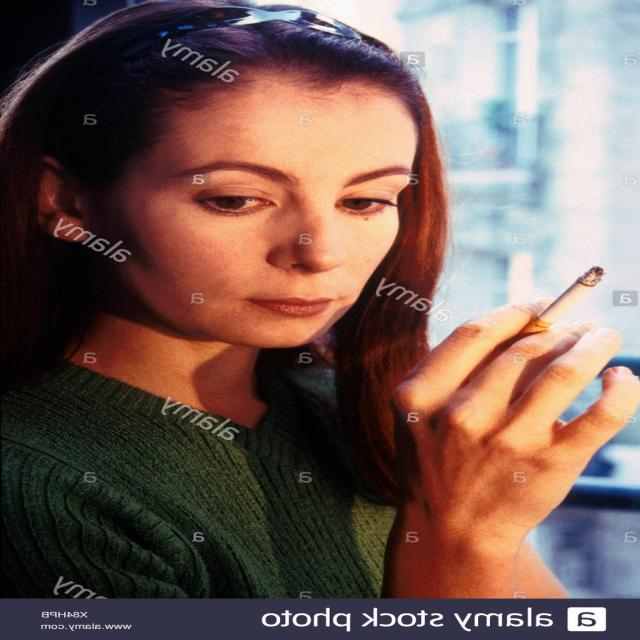smoking: (18, 1, 608, 412)
